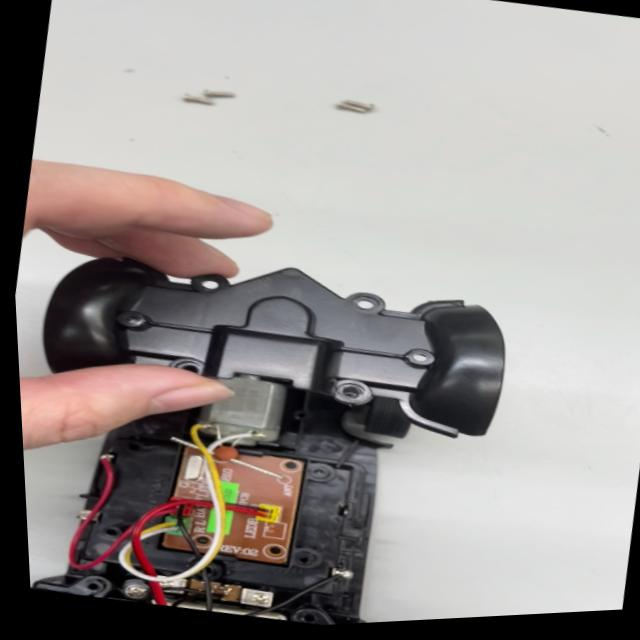motor_cover: (35, 228, 522, 461)
